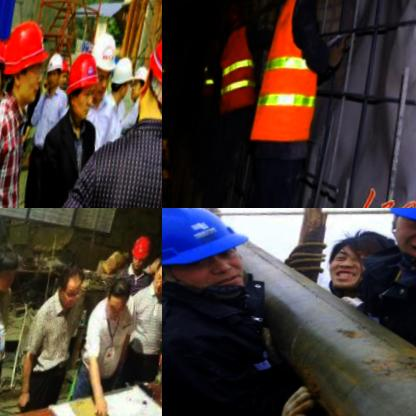helmet: (162, 208, 279, 319), (0, 16, 55, 110), (60, 52, 106, 122), (140, 11, 162, 133), (92, 34, 120, 89), (109, 57, 137, 106), (128, 235, 159, 274), (42, 52, 70, 95), (0, 36, 14, 112), (131, 64, 154, 108), (224, 3, 250, 38)
